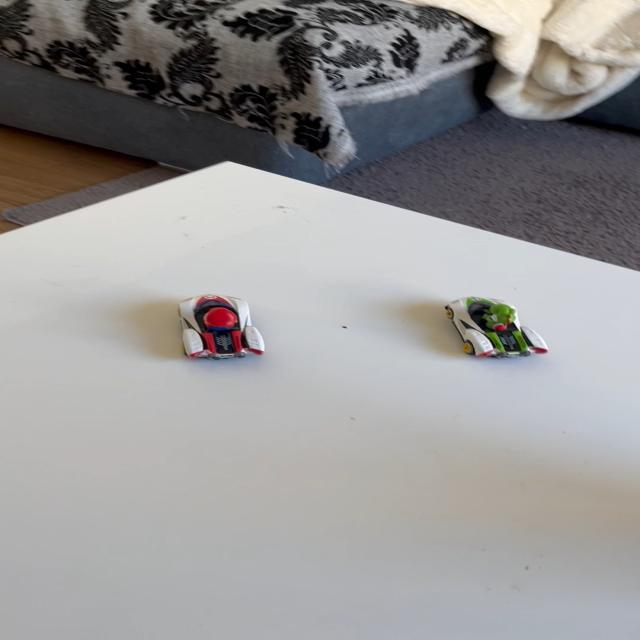mario: (153, 281, 284, 371)
yoshi: (424, 288, 558, 364)
